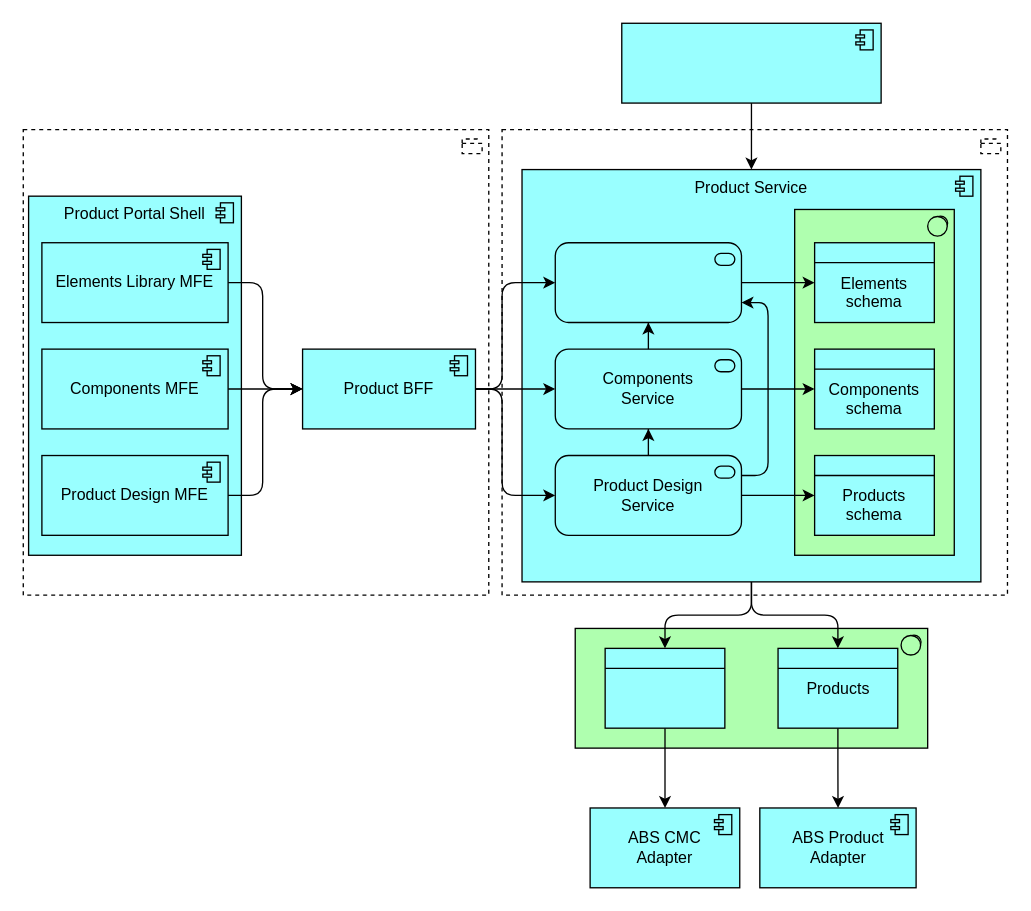
The diagram is 1031 pixels wide and 911 high, and some of its shapes have lost their labels. The box of each missing label's shape, as (x1, y1, x2, y2) in pixels:
Elements Library Service: (554, 241, 741, 323)
Kafka: (574, 627, 928, 748)
PostgresSQL: (793, 208, 954, 555)
Product MCP Server: (620, 22, 881, 103)
Products componenets: (604, 647, 725, 728)
Service Layer: (501, 128, 1007, 595)
UI Layer: (22, 128, 489, 595)
